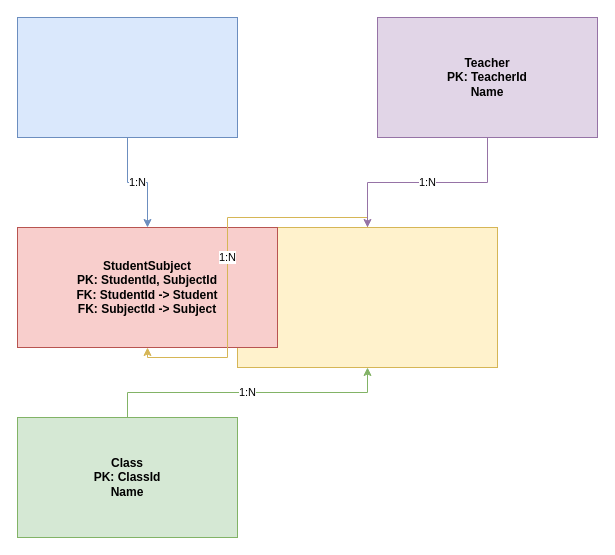
The diagram is 615 pixels wide and 555 high, and some of its shapes have lost their labels. Each missing label, with the centre of its shape:
Student PK: StudentId Name Age: the point at 127,77
Subject PK: SubjectId Name FK: TeacherId -> Teacher FK: ClassId -> Class: the point at 367,297
